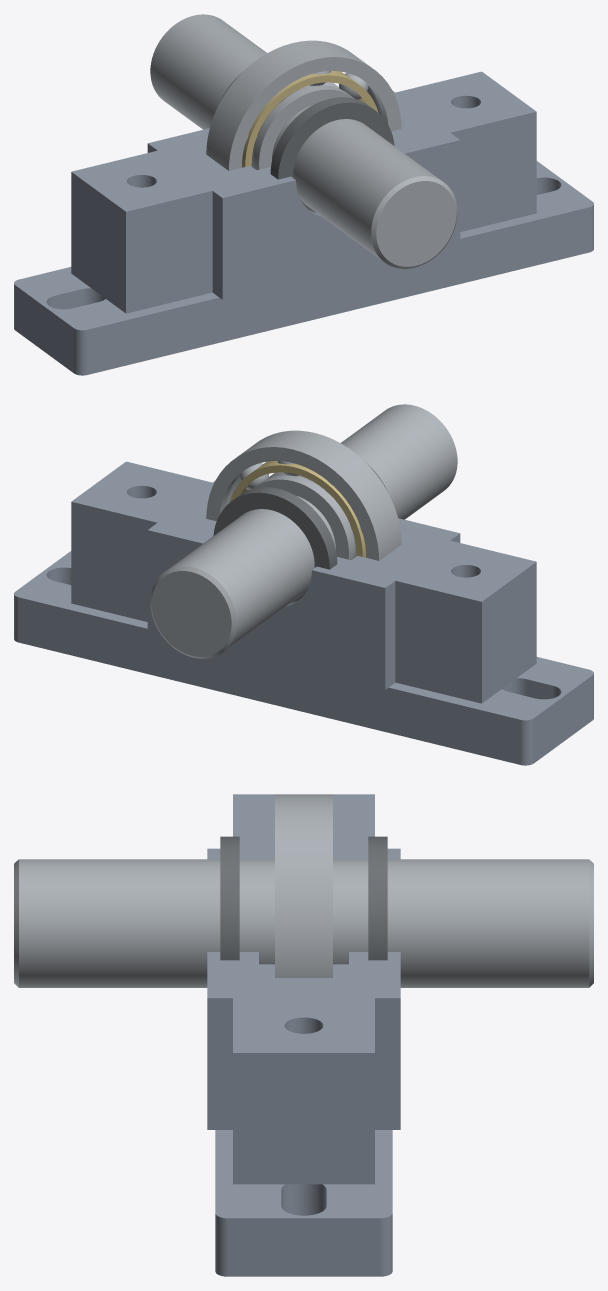
Rendered from step_23.glb.
The picture shows the model from 3 angles, top to bottom: view 1: azimuth 30°, elevation 25°; view 2: azimuth 150°, elevation 25°; view 3: azimuth 270°, elevation 25°; orthographic projection. The views are drawn at different scales.
Parts seen in each view (by area): view 1: part__housing base, part__shaft, part__bearing outer ring, part__felt seal 2, part__bearing inner ring, part__bearing cage; view 2: part__housing base, part__shaft, part__bearing outer ring, part__felt seal 1, part__bearing inner ring, part__bearing cage; view 3: part__housing base, part__shaft, part__bearing outer ring, part__felt seal 1, part__felt seal 2.
Part boxes in pixels (x1,y1,x2,y2): part__housing base: (14, 71, 593, 375); part__shaft: (150, 14, 457, 268); part__bearing outer ring: (206, 40, 401, 170); part__felt seal 2: (270, 97, 394, 212); part__bearing inner ring: (251, 82, 354, 170); part__bearing cage: (241, 71, 378, 167); part__housing base: (14, 461, 593, 765); part__shaft: (150, 404, 457, 658); part__bearing outer ring: (206, 430, 401, 560); part__felt seal 1: (213, 487, 337, 602); part__bearing inner ring: (253, 472, 356, 560); part__bearing cage: (229, 461, 366, 557); part__housing base: (207, 794, 400, 1276); part__shaft: (14, 859, 593, 987); part__bearing outer ring: (275, 794, 332, 977); part__felt seal 1: (368, 836, 387, 960); part__felt seal 2: (220, 836, 239, 960).
Bounding box in the file's own units: 240 × 105 × 180.
